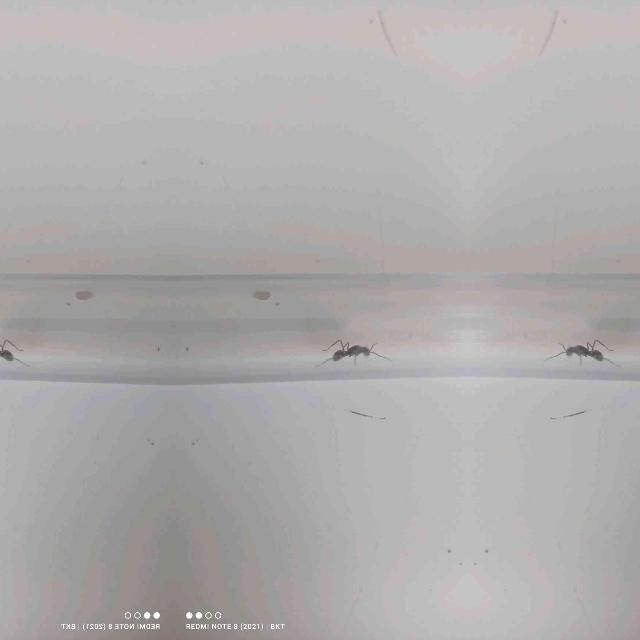Lasius: (317, 335, 381, 371), (554, 335, 618, 371), (0, 335, 26, 371)
